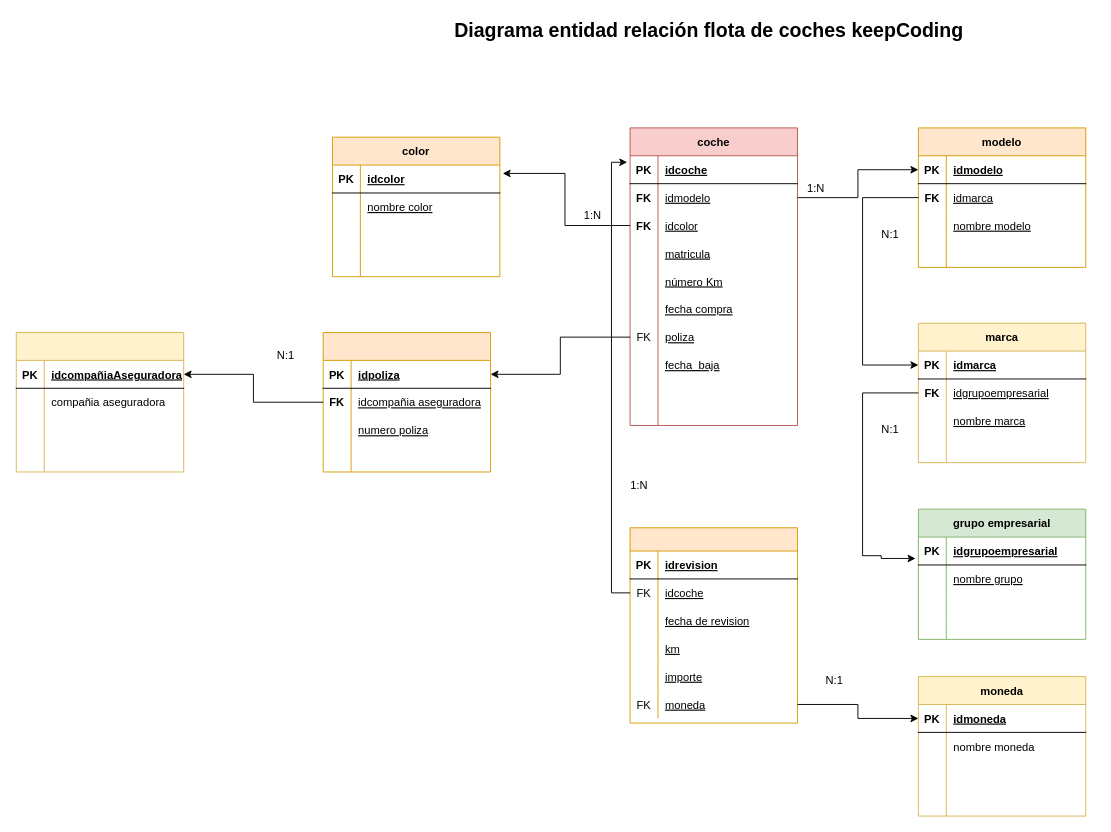
Image size: 1111x832. Some labels were removed from this diagram. Each missing label, with the box of its shape:
empresa aseguradora: (15, 332, 184, 472)
poliza coche: (322, 332, 491, 472)
revisiones: (629, 527, 797, 723)
